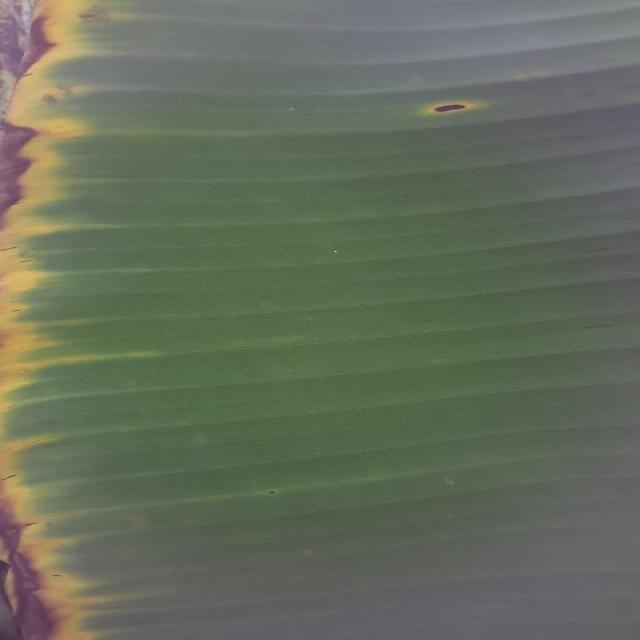Cordana: (0, 0, 163, 639), (385, 65, 509, 139)
